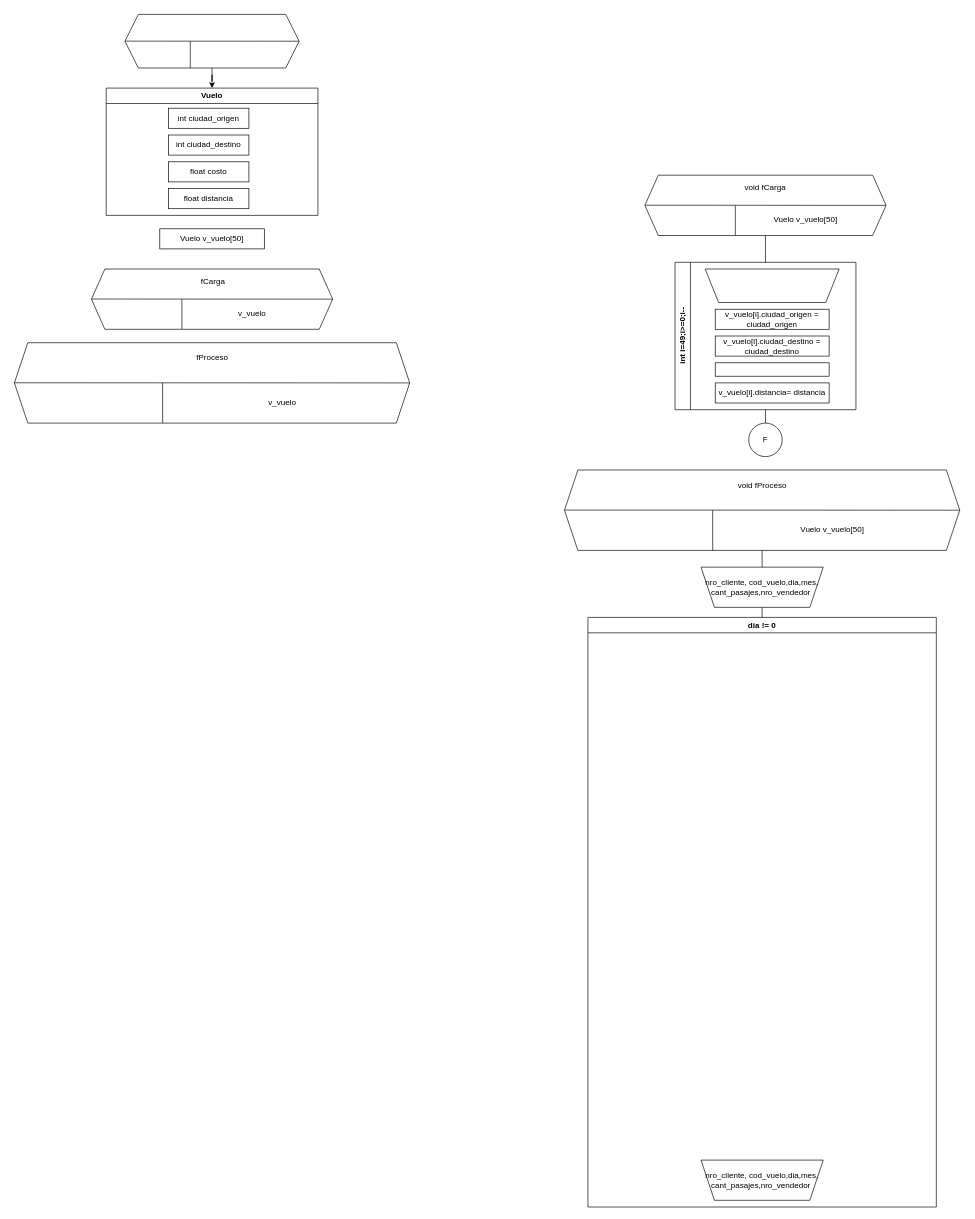
Some shapes in this 975 by 1219 pixel diagram are drawn without their labels. The centre of each missing label's shape, as x and y in pixels:
ciudad_origen,ciudad_destino, costo,distancia: (772,285)
v_vuelo[i].costo = costo: (772,369)
void main: (211,41)
